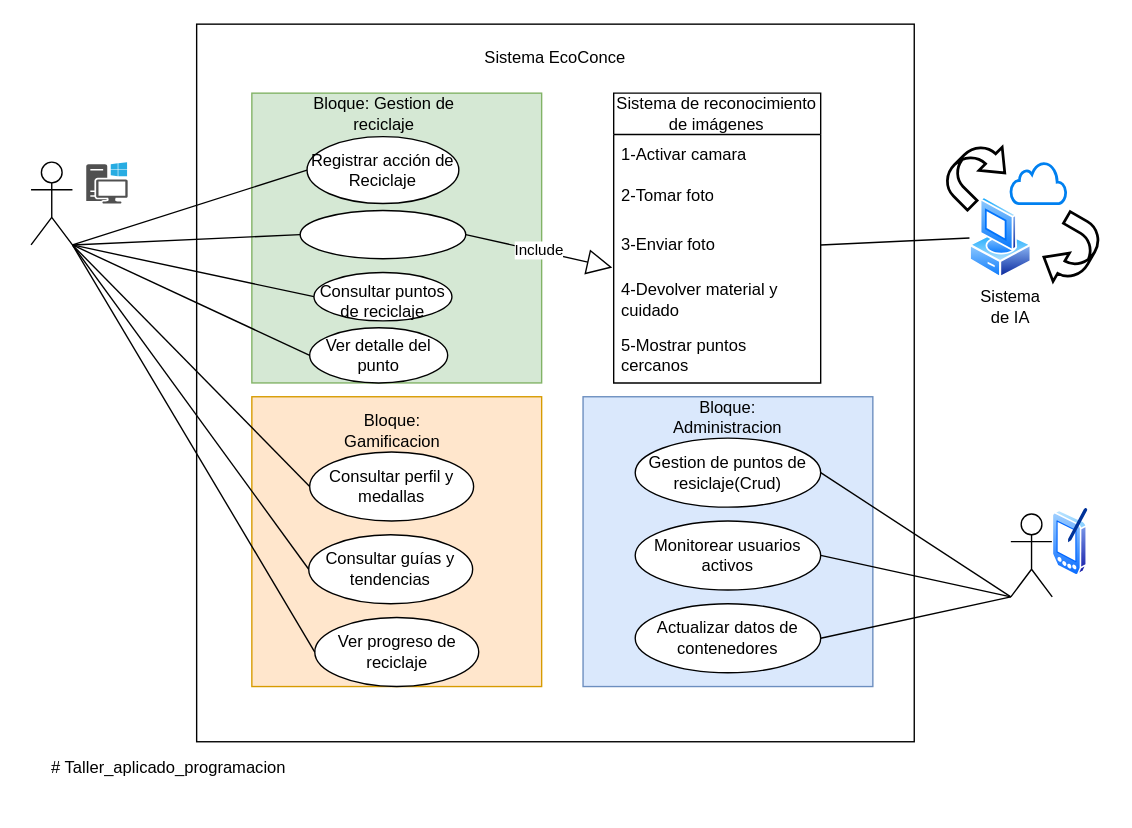
This 1132x828 diagram has some shape labels left out. The centre of each missing label's shape, as x and y in pixels:
Administrador: the point at 1030,555
Escanear/identificar Material: the point at 382,234
Usuario: the point at 51,203
